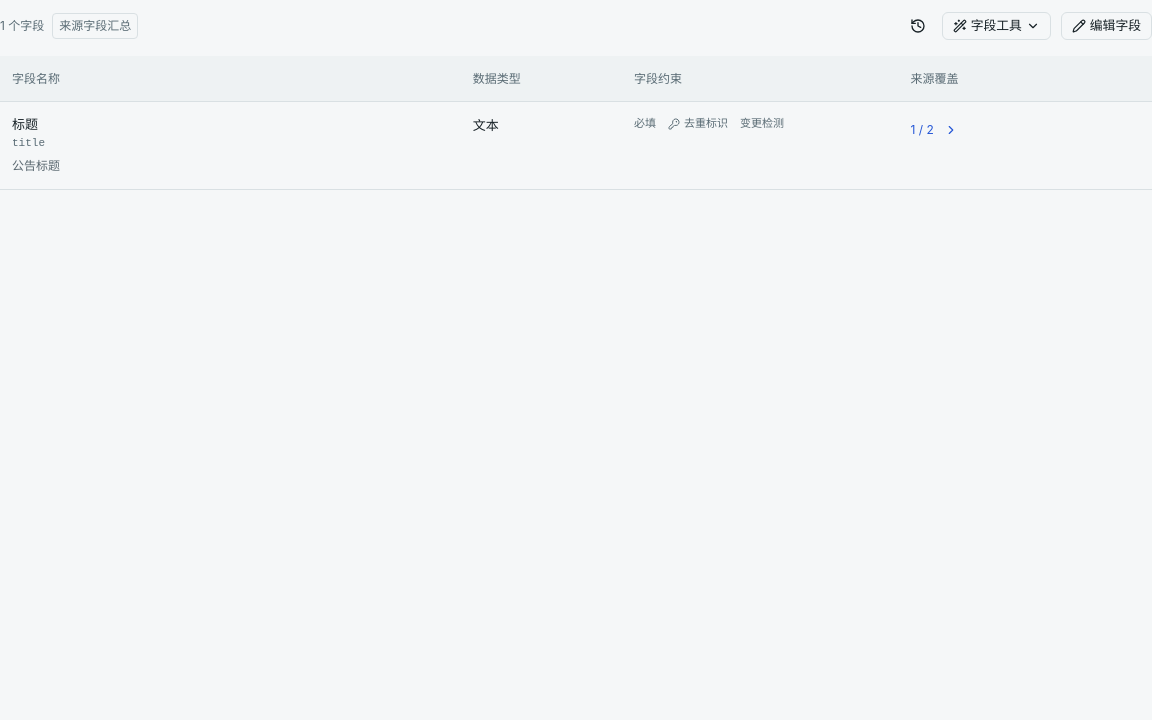
Test: previews templates without writing and disables tools during local editing
This screenshot has width=1152, height=720.
Click the button "字段工具".
click(996, 26)  # box [942,12,1051,40]
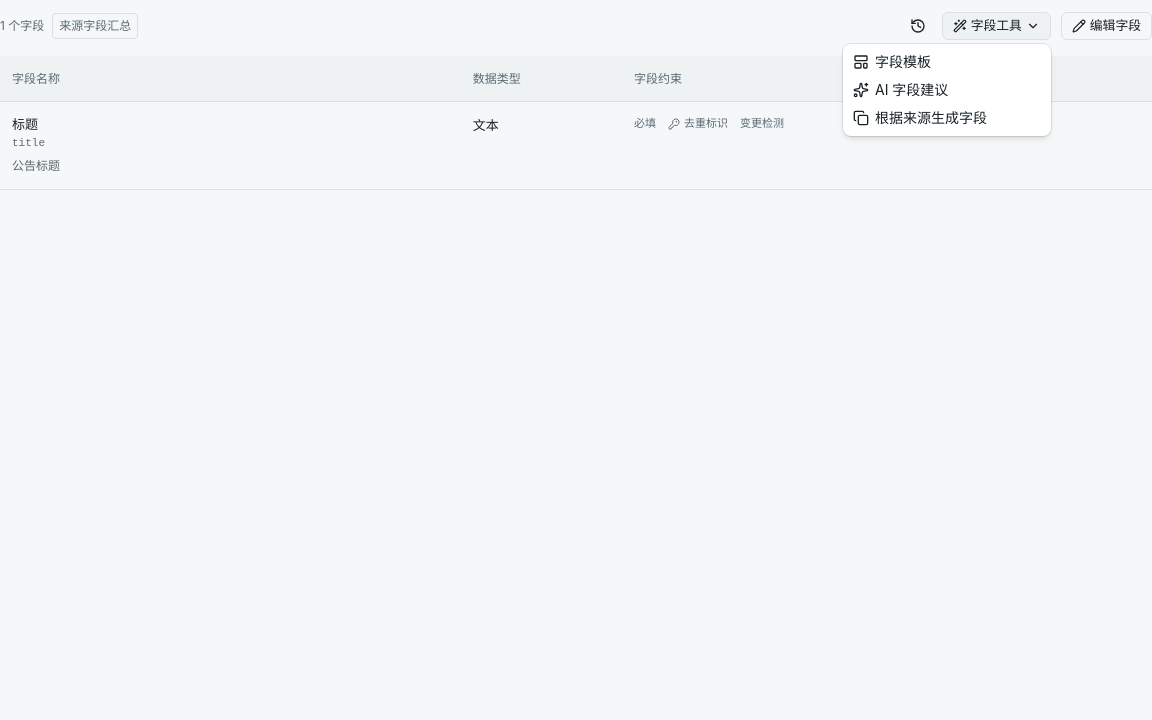
Click the menu item "字段模板".
click(892, 62)  # box [853,53,931,70]
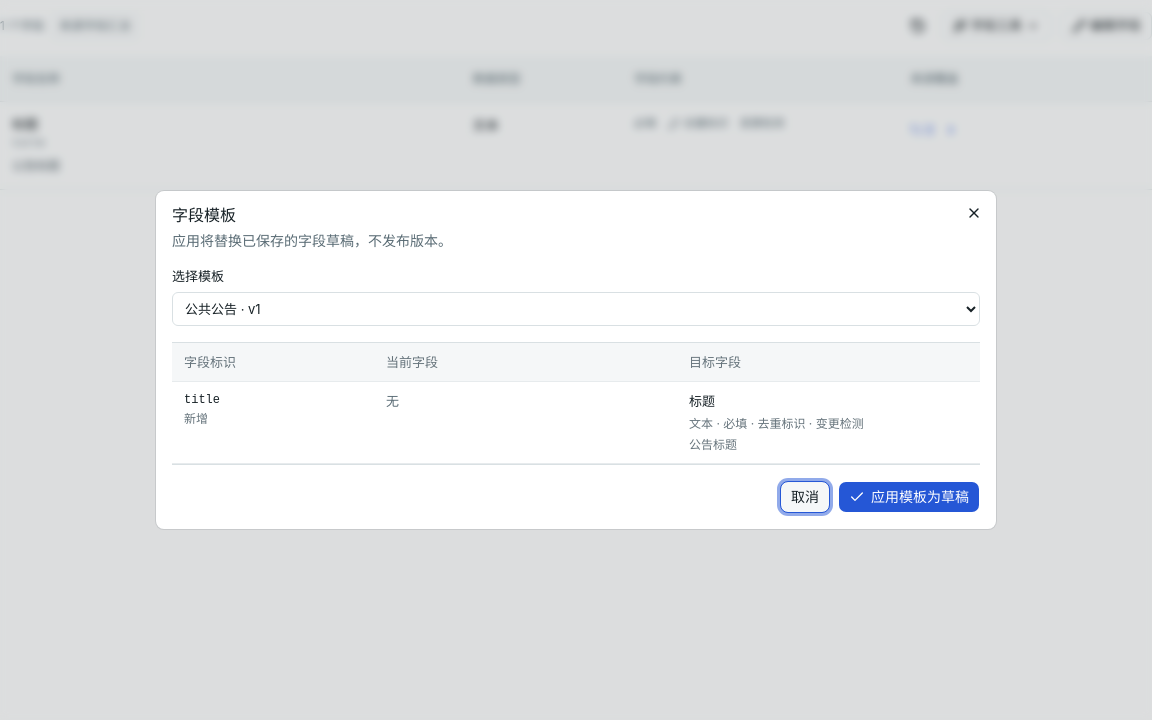
expect the dialog shows "字段模板": met, box [172,205,236,225]
Click the button "应用模板为草稿".
click(909, 497)  # box [838,481,980,513]
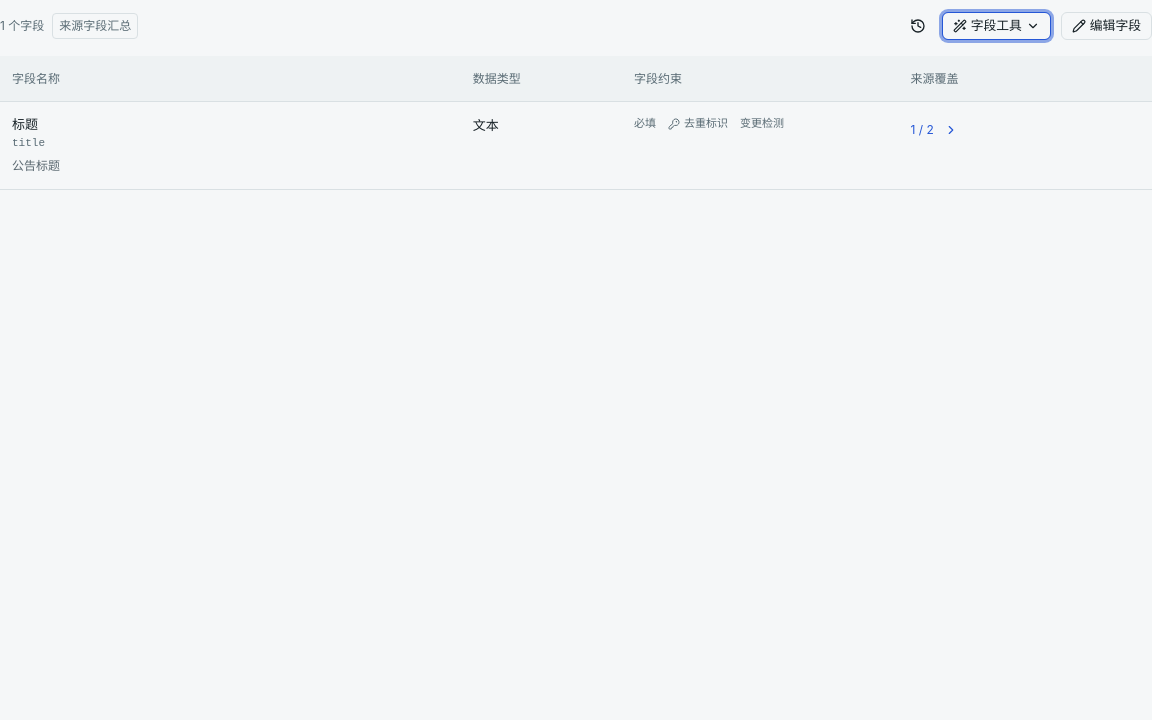
Click the button "编辑字段".
click(1106, 26)  # box [1061,12,1151,40]
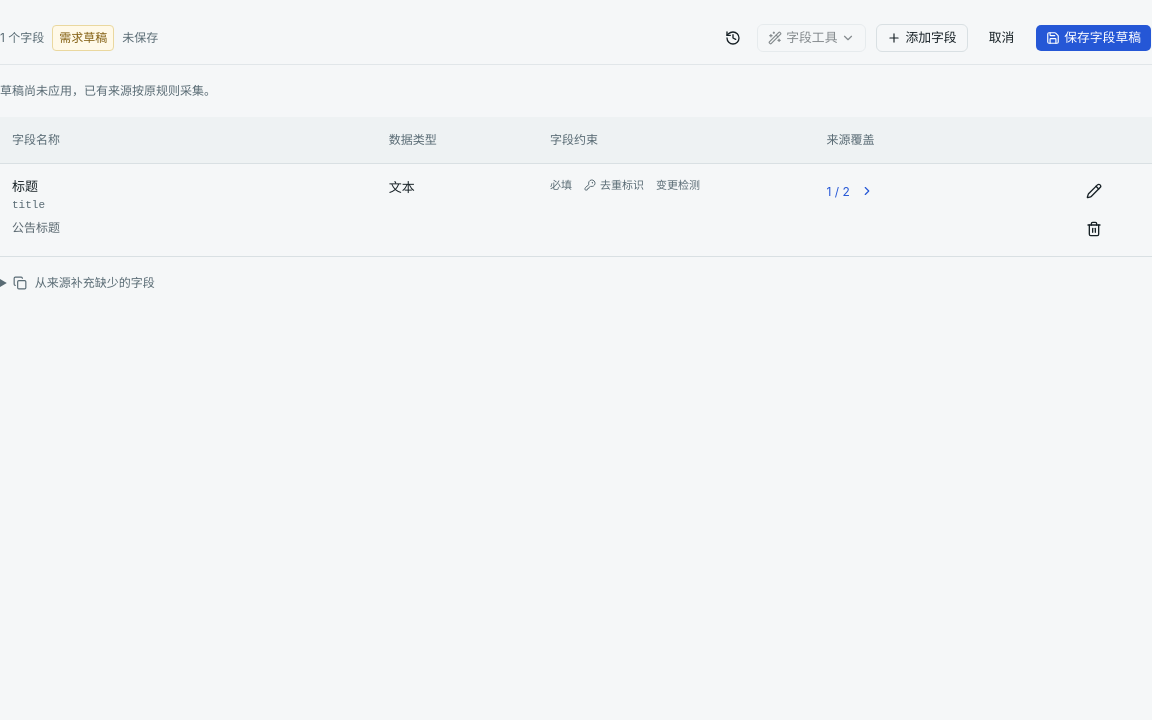
expect the button "字段工具" is disabled: met, box [757,24,866,52]
